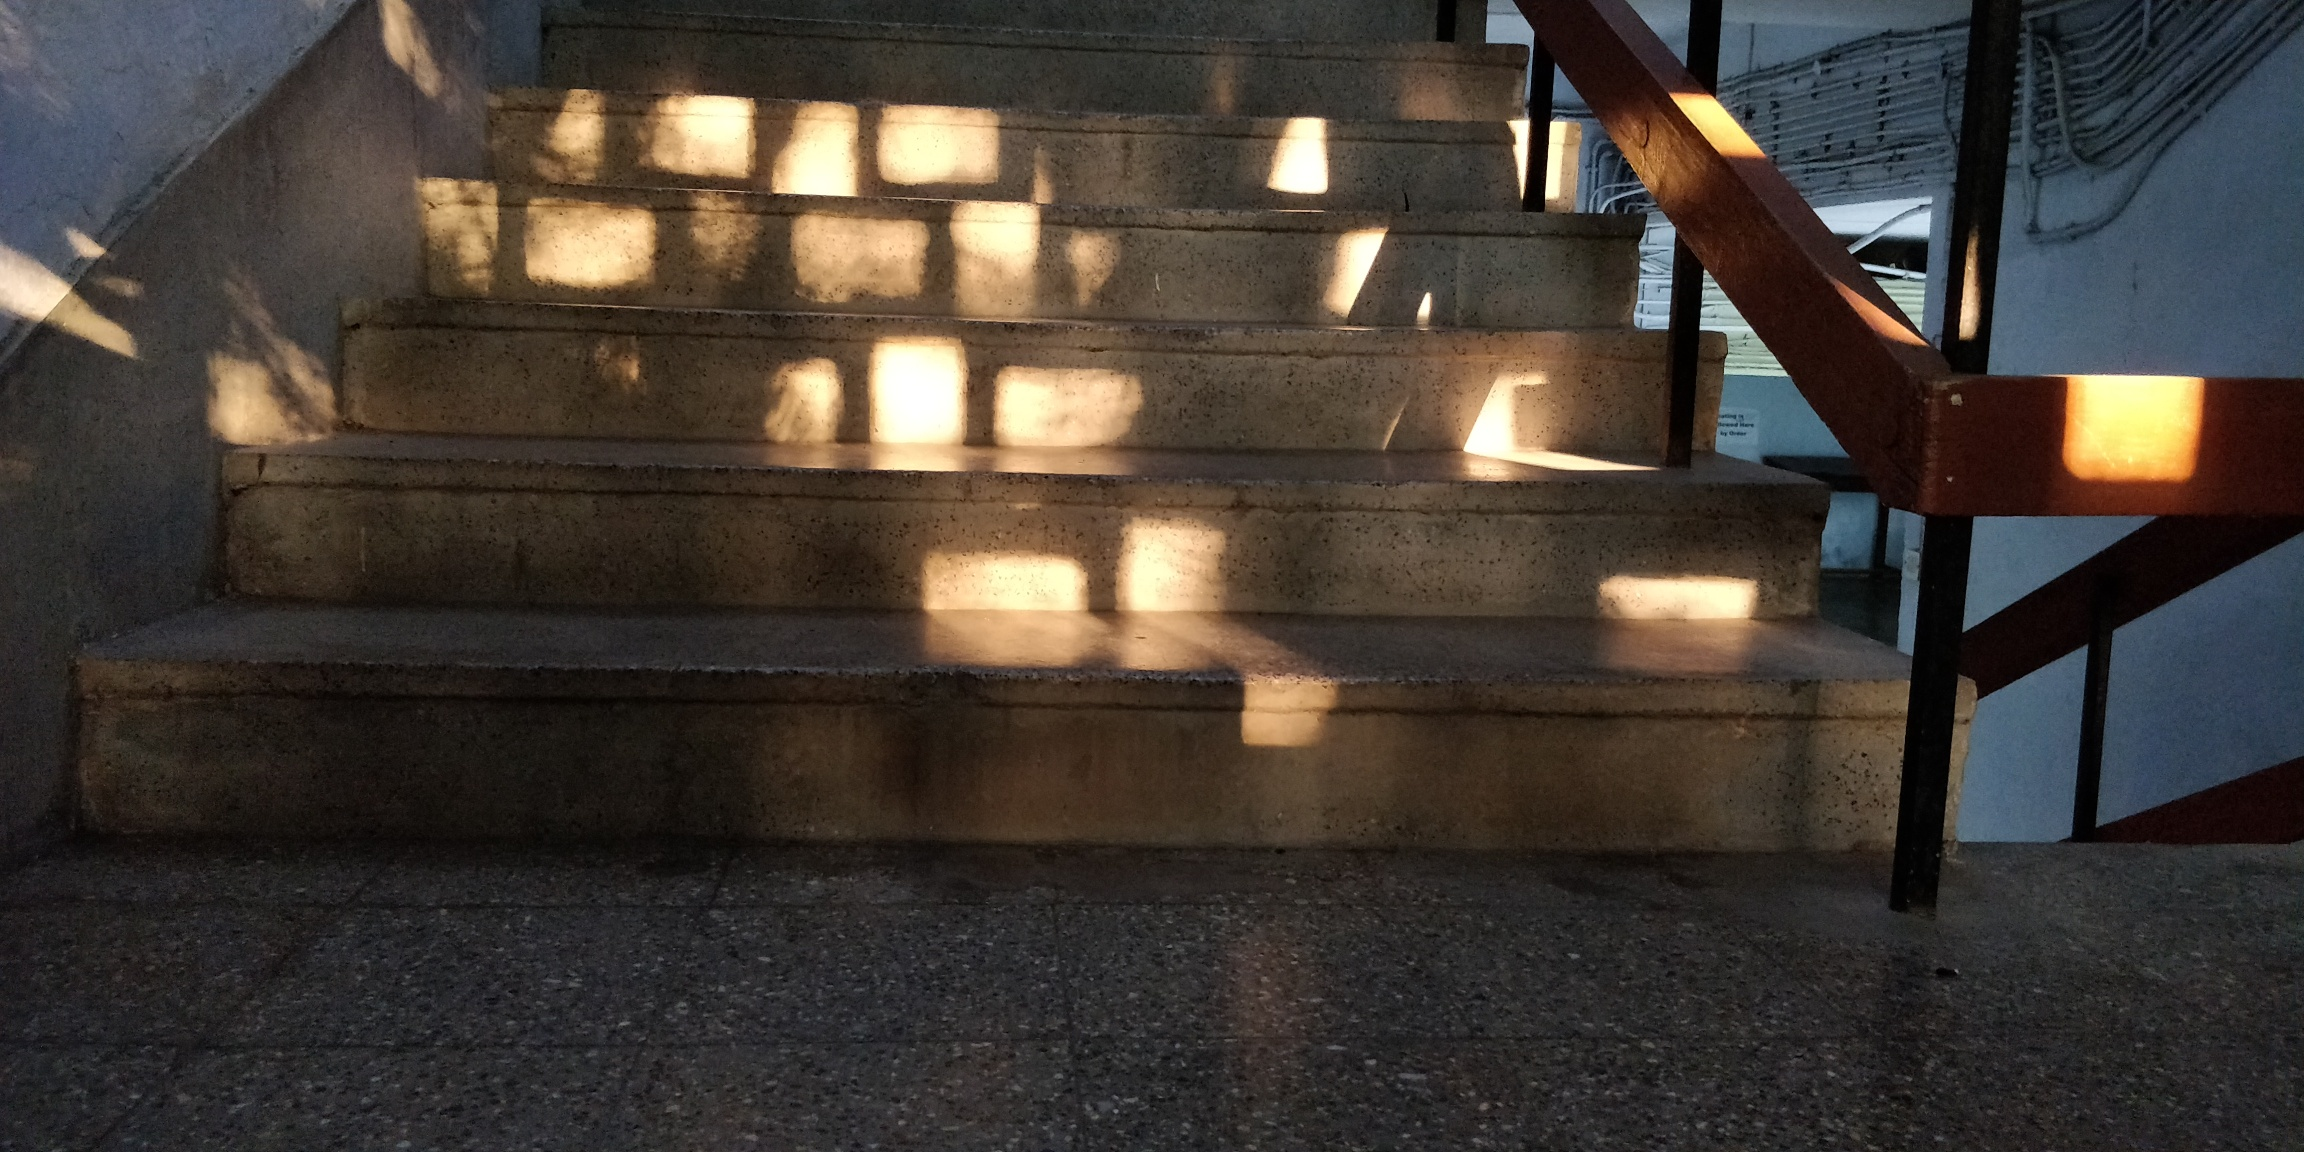stairs_up: (87, 40, 1997, 904)
